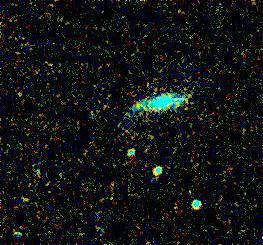star: (123, 90, 153, 120)
